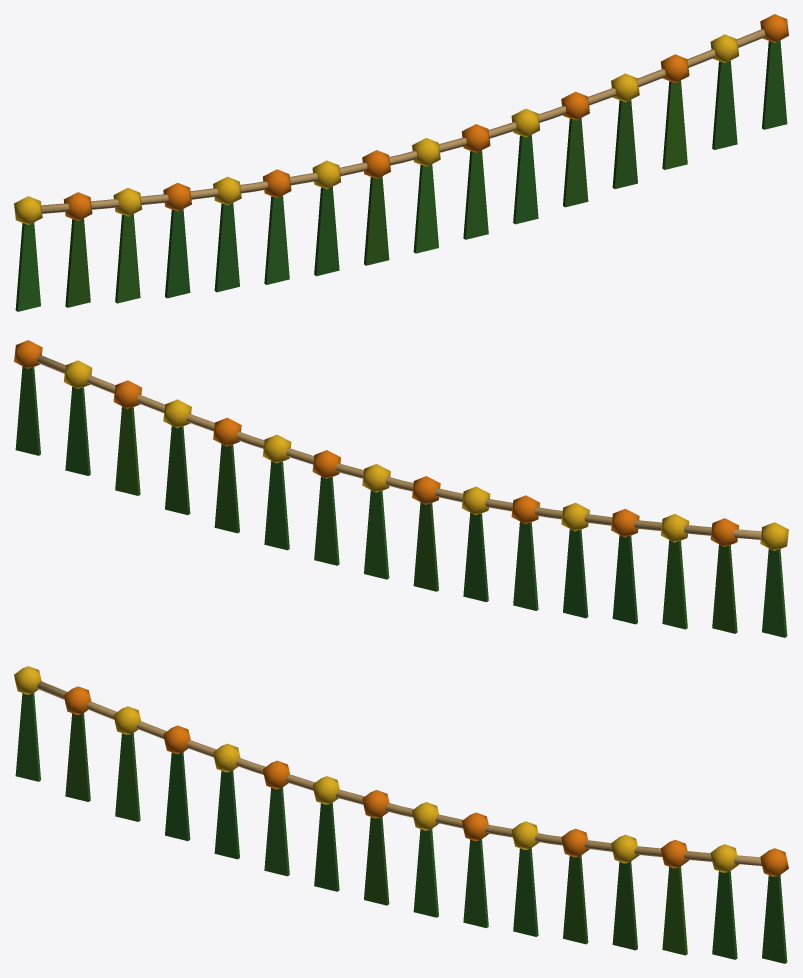
The model's file is PRP_Thoranam_A.glb.
3 renders of one model, top to bottom at view 1: azimuth 30°, elevation 25°; view 2: azimuth 150°, elevation 25°; view 3: azimuth 330°, elevation 25°, orthographic.
Parts seen in each view (by area): view 1: PRP_Thoranam_A_Mesh; view 2: PRP_Thoranam_A_Mesh; view 3: PRP_Thoranam_A_Mesh.
Boxes of the visible parts, x1=… form: PRP_Thoranam_A_Mesh: x1=14, y1=14, x2=788, y2=311; PRP_Thoranam_A_Mesh: x1=14, y1=340, x2=788, y2=637; PRP_Thoranam_A_Mesh: x1=14, y1=666, x2=788, y2=963.
Bounding box in the file's own units: 1.65 × 0.3096 × 0.051.
